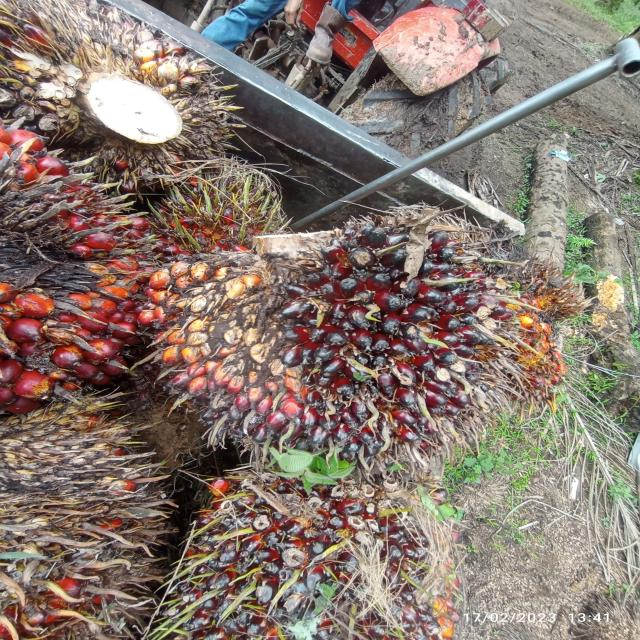fraksi 1: (135, 199, 516, 481), (173, 459, 434, 640)
fraksi 3: (0, 112, 167, 439)
